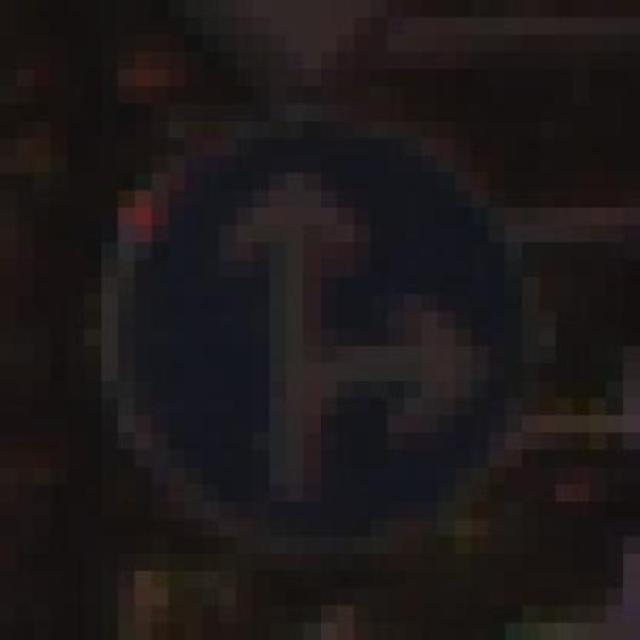Go Straight or Turn Right: (67, 103, 590, 554)
